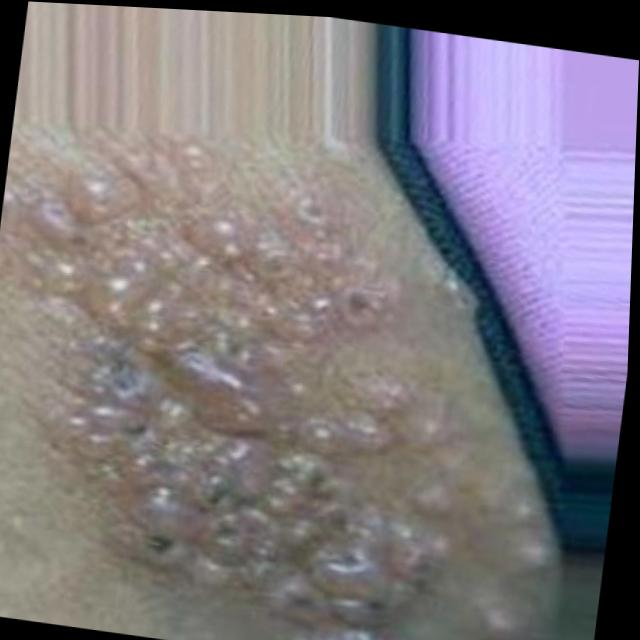Shingles: (0, 148, 592, 640)
